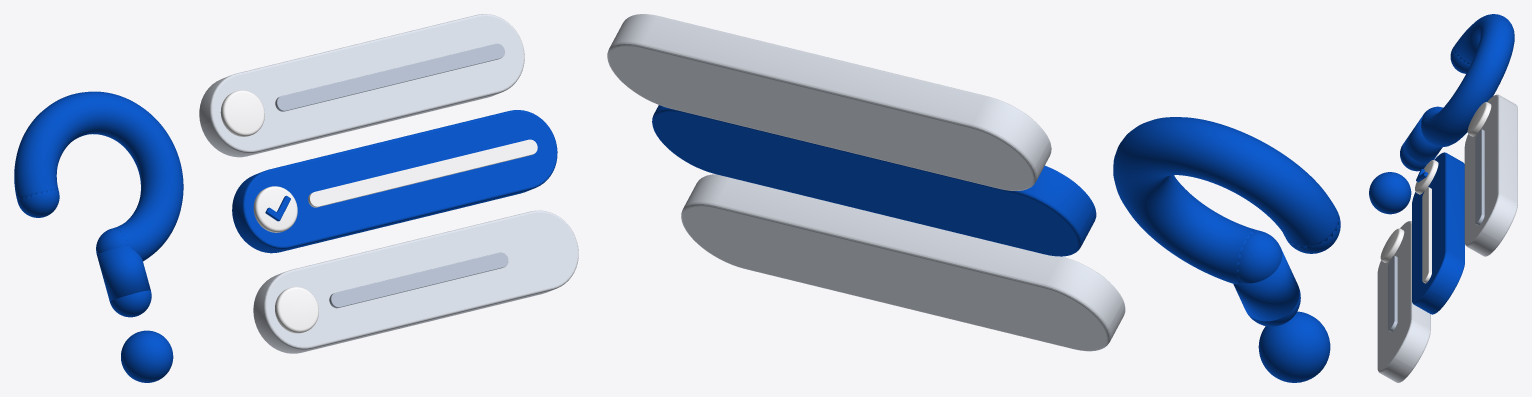
Rendered from quiz.glb.
The picture shows the model from 3 angles, left to right: view 1: azimuth 30°, elevation 25°; view 2: azimuth 150°, elevation 25°; view 3: azimuth 270°, elevation 25°; orthographic projection. The views are drawn at different scales.
Visible parts, largest first — view 1: ext.005, ext.002, ext, tor, ext.003, ext.001, ext.006, sph.003, cyl, cyl.003, cyl.001, cyl.002 (+3 smaller); view 2: ext, ext.005, ext.002, tor, sph.003, cyl, sph.001; view 3: ext, ext.002, tor, ext.005, sph.003, ext.001, ext.003, cyl, ext.006, cyl.001, cyl.003, cyl.002 (+2 smaller).
Part boxes in pixels (left/top/right/bottom): ext.005: left=253, top=210, right=578, bottom=353; ext.002: left=232, top=110, right=557, bottom=253; ext: left=199, top=14, right=524, bottom=157; tor: left=14, top=91, right=183, bottom=261; ext.003: left=308, top=139, right=537, bottom=207; ext.001: left=275, top=43, right=504, bottom=111; ext.006: left=329, top=252, right=508, bottom=308; sph.003: left=121, top=330, right=173, bottom=382; cyl: left=97, top=245, right=150, bottom=300; cyl.003: left=275, top=287, right=318, bottom=333; cyl.001: left=220, top=90, right=264, bottom=136; cyl.002: left=253, top=186, right=297, bottom=232; ext: left=607, top=14, right=1051, bottom=190; ext.005: left=681, top=174, right=1125, bottom=351; ext.002: left=652, top=105, right=1096, bottom=256; tor: left=1113, top=117, right=1339, bottom=284; sph.003: left=1258, top=311, right=1330, bottom=382; cyl: left=1233, top=249, right=1299, bottom=321; sph.001: left=1237, top=230, right=1282, bottom=283; ext: left=1464, top=94, right=1517, bottom=256; ext.002: left=1412, top=152, right=1464, bottom=314; tor: left=1421, top=14, right=1514, bottom=147; ext.005: left=1377, top=221, right=1430, bottom=382; sph.003: left=1369, top=172, right=1411, bottom=214; ext.001: left=1475, top=129, right=1484, bottom=225; ext.003: left=1422, top=187, right=1431, bottom=283; cyl: left=1402, top=115, right=1442, bottom=164; ext.006: left=1388, top=255, right=1397, bottom=331; cyl.001: left=1467, top=102, right=1491, bottom=136; cyl.003: left=1380, top=228, right=1404, bottom=262; cyl.002: left=1415, top=160, right=1438, bottom=194.
Bounding box in the file's own units: 6.09 × 2.84 × 1.9.
